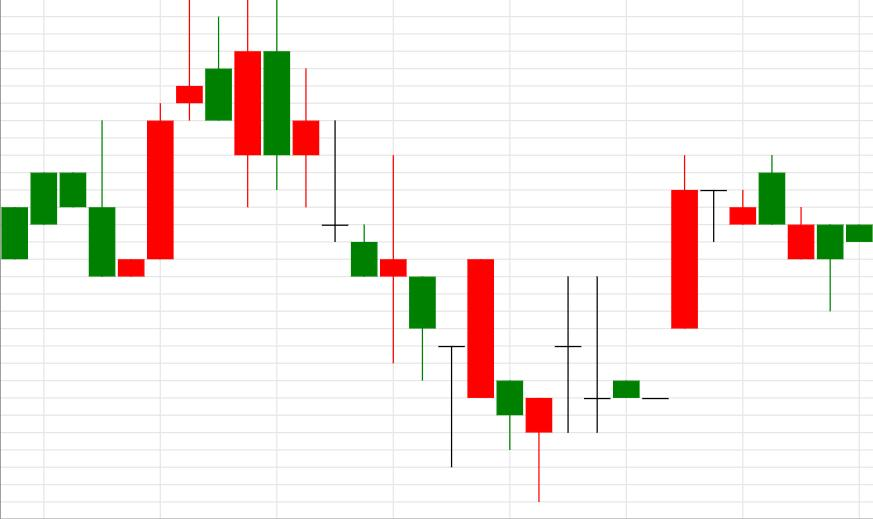hammer_rise: (264, 0, 553, 502)
